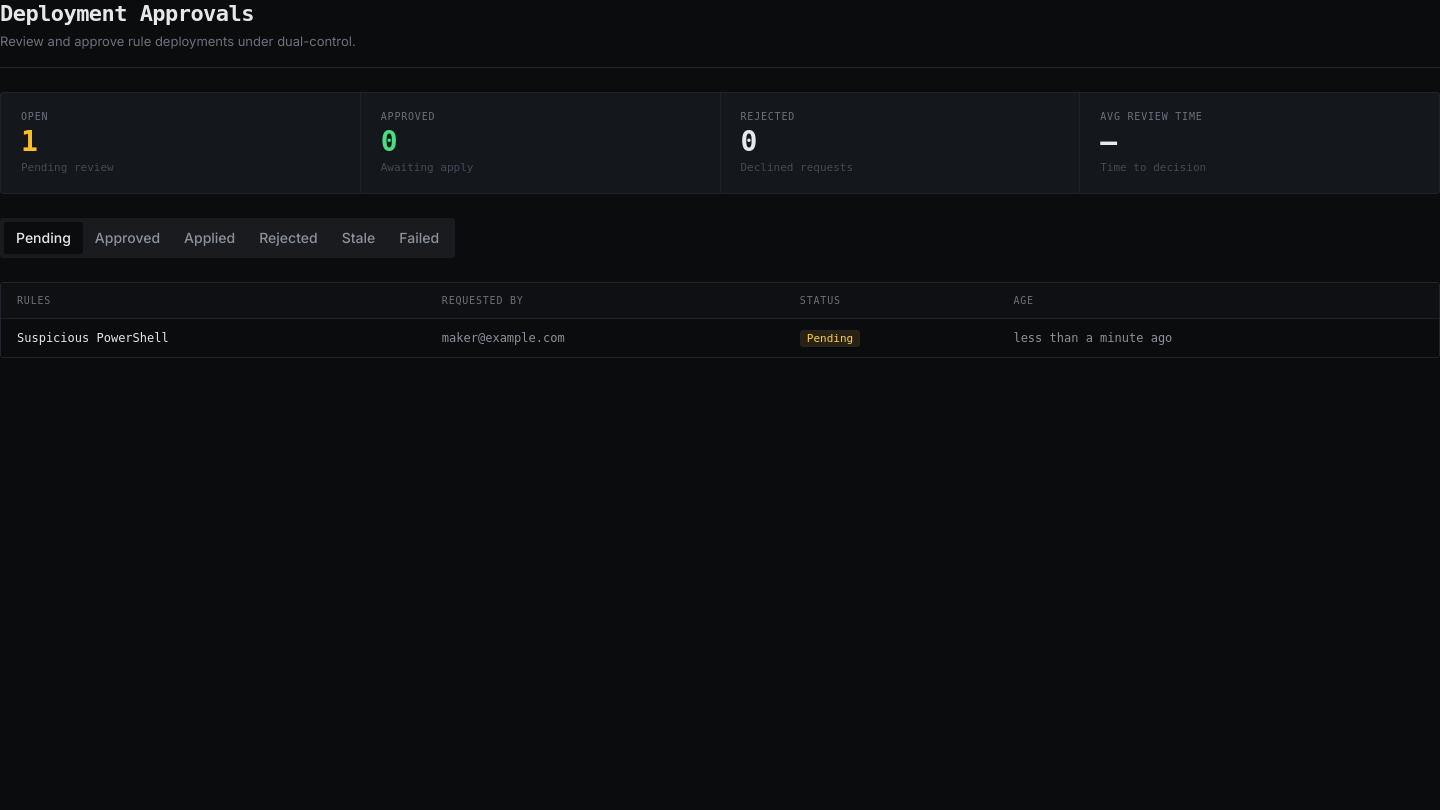
Scenario: ApprovalsPage › enables Approve for a different reviewer
What coordinates should you click on to do the following:
click the text "Suspicious PowerShell"
I would click on:
 (93, 338)
Its box is [17, 329, 169, 347].
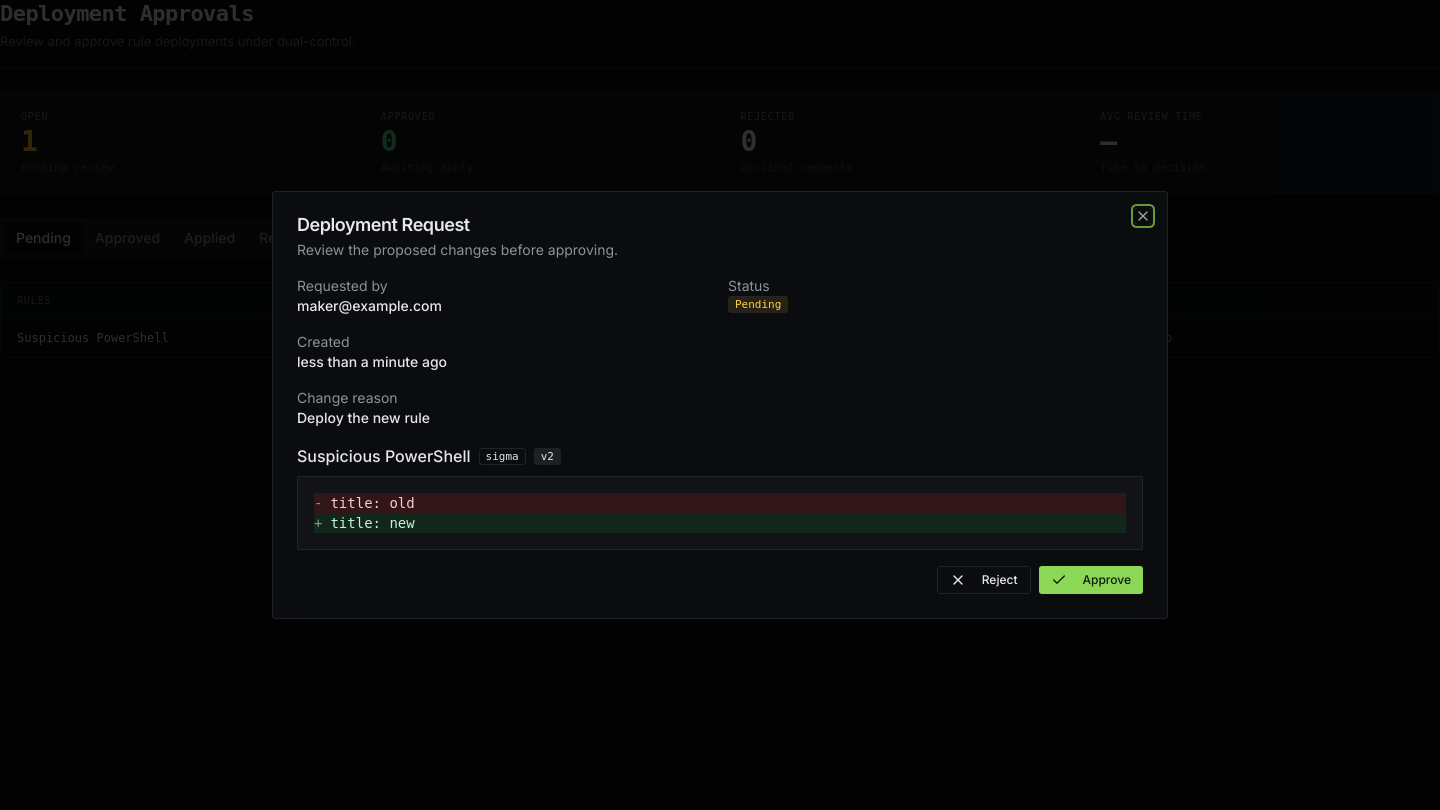
Now the button "Approve" is enabled, box [1038, 566, 1143, 594]
